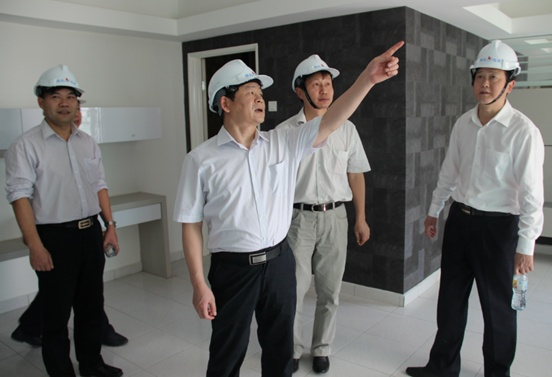white: (207, 57, 267, 123), (467, 40, 520, 105), (30, 65, 82, 125), (293, 56, 335, 107)
